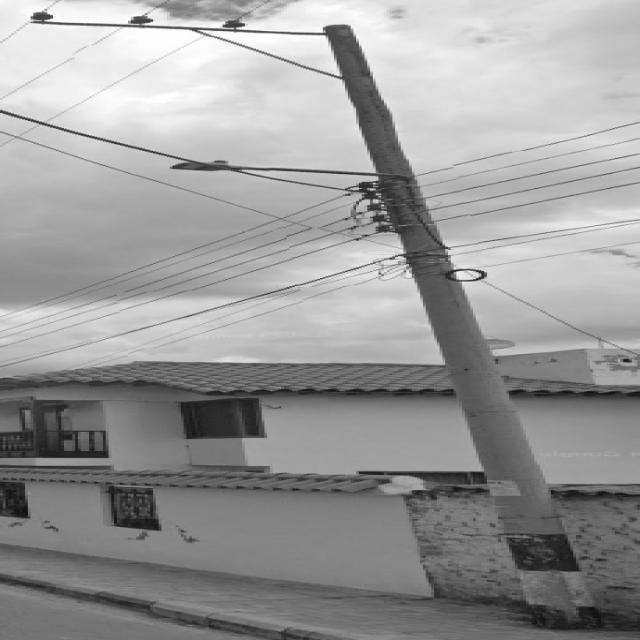Fachada: (3, 361, 484, 483), (495, 349, 640, 484)
Poste: (6, 12, 601, 629)
